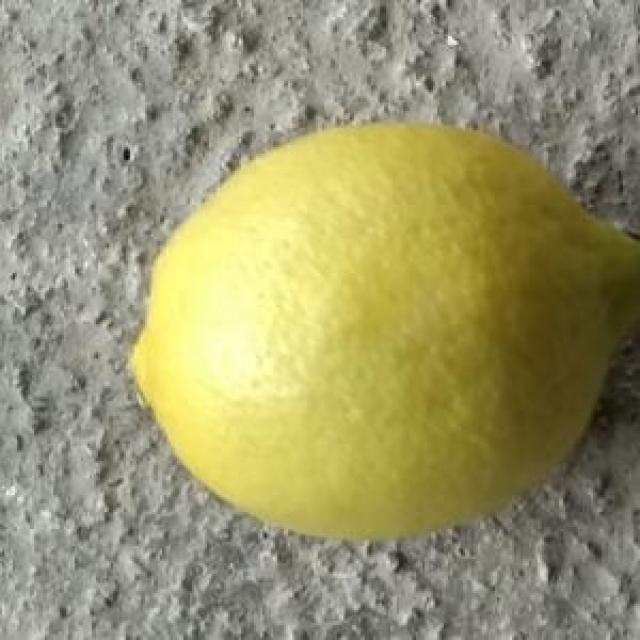lemon: (127, 120, 640, 537)
